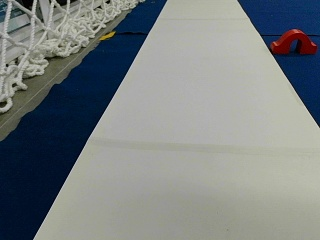bridge: (272, 29, 316, 53)
